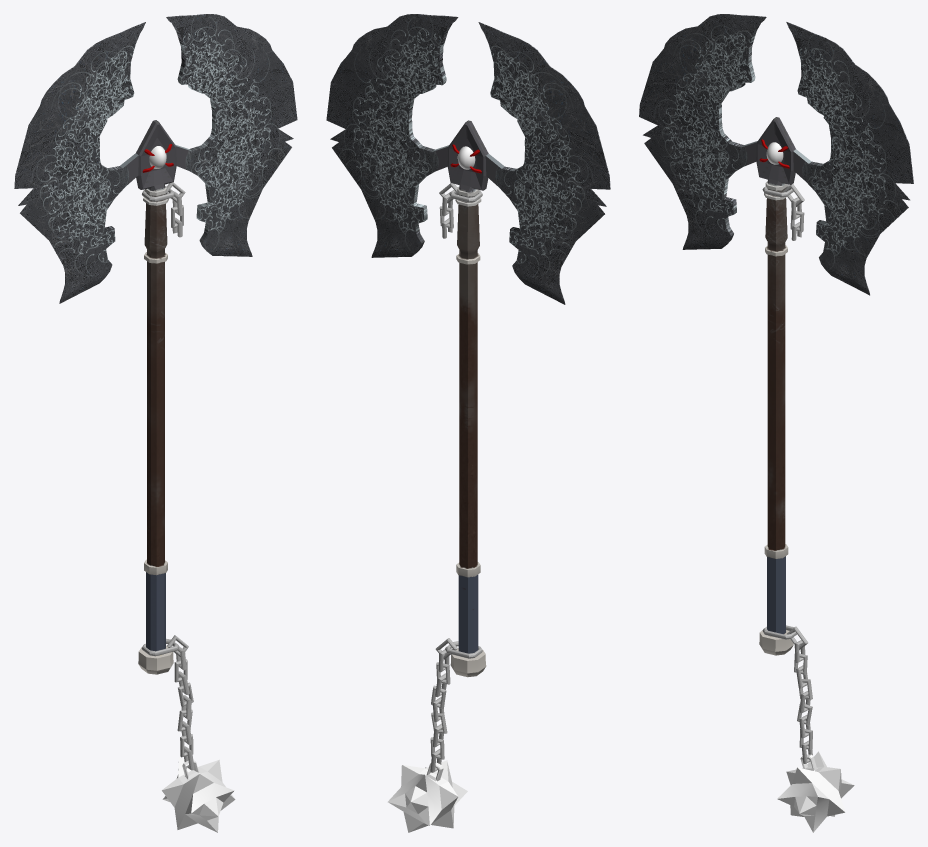
The model's file is aXe.fbx.
3 views of the same model, side by side, from view 1: azimuth 30°, elevation 25°; view 2: azimuth 150°, elevation 25°; view 3: azimuth 330°, elevation 25° (orthographic). The views are drawn at different scales.
Parts seen in each view (by area): view 1: polySurface8, pSphere2; view 2: polySurface8, pSphere2; view 3: polySurface8, pSphere2.
Boxes of the visible parts, x1,y1,x2,y2 form: polySurface8: (14,14,297,674); pSphere2: (162,757,235,832); polySurface8: (326,14,610,677); pSphere2: (388,760,467,832); polySurface8: (639,14,913,655); pSphere2: (777,751,854,832).
Size of the model in its own units: 7.55 by 20.84 by 1.71.
